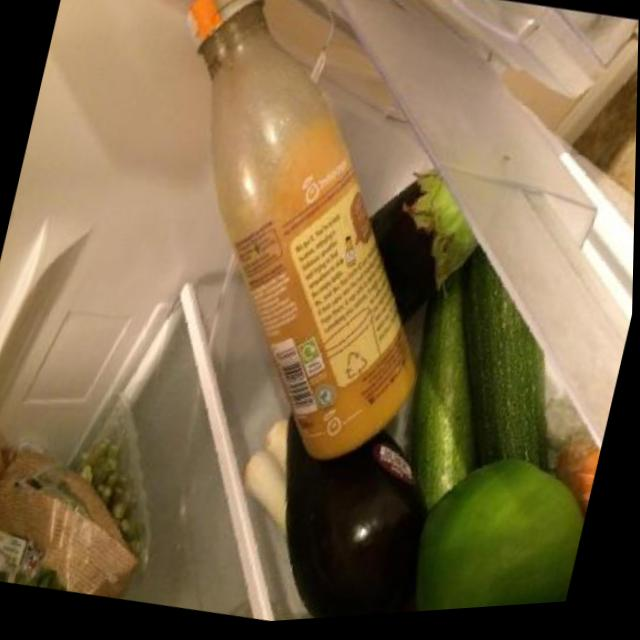plastic: (90, 0, 505, 483)
